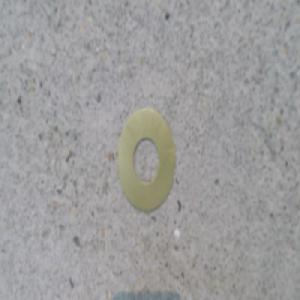Washer: (115, 94, 178, 204)
